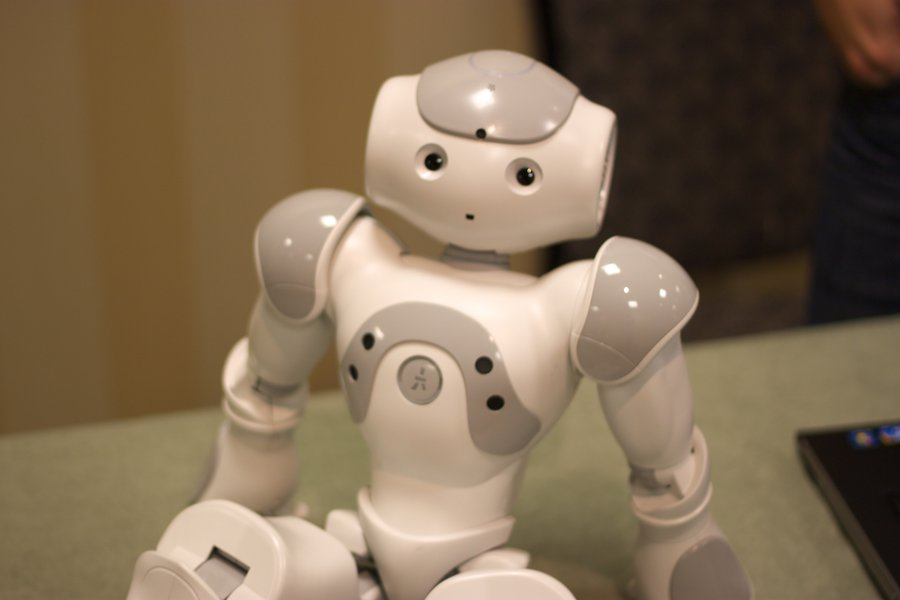nao: (125, 29, 761, 600)
